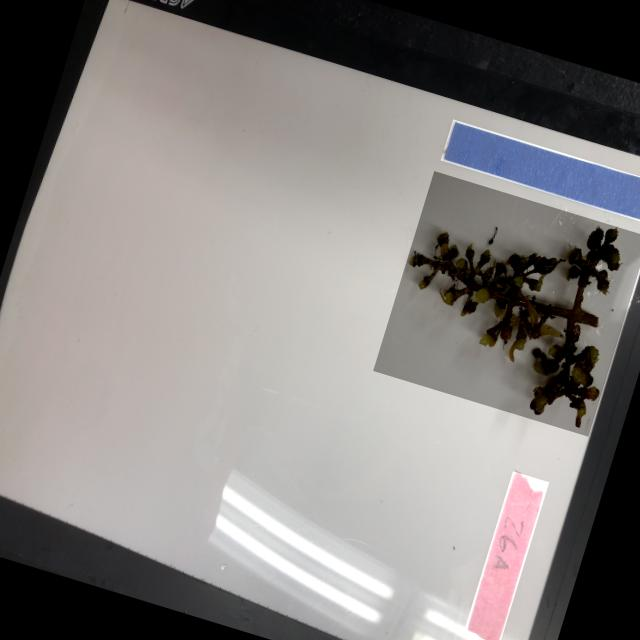index: (460, 470, 547, 640)
measure_label: (439, 118, 640, 221)
rachis_cluster: (371, 170, 640, 436)
